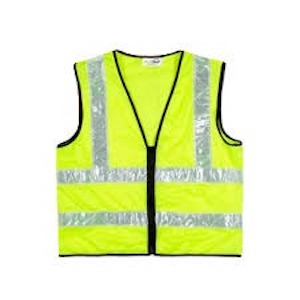vest: (57, 51, 245, 257)
